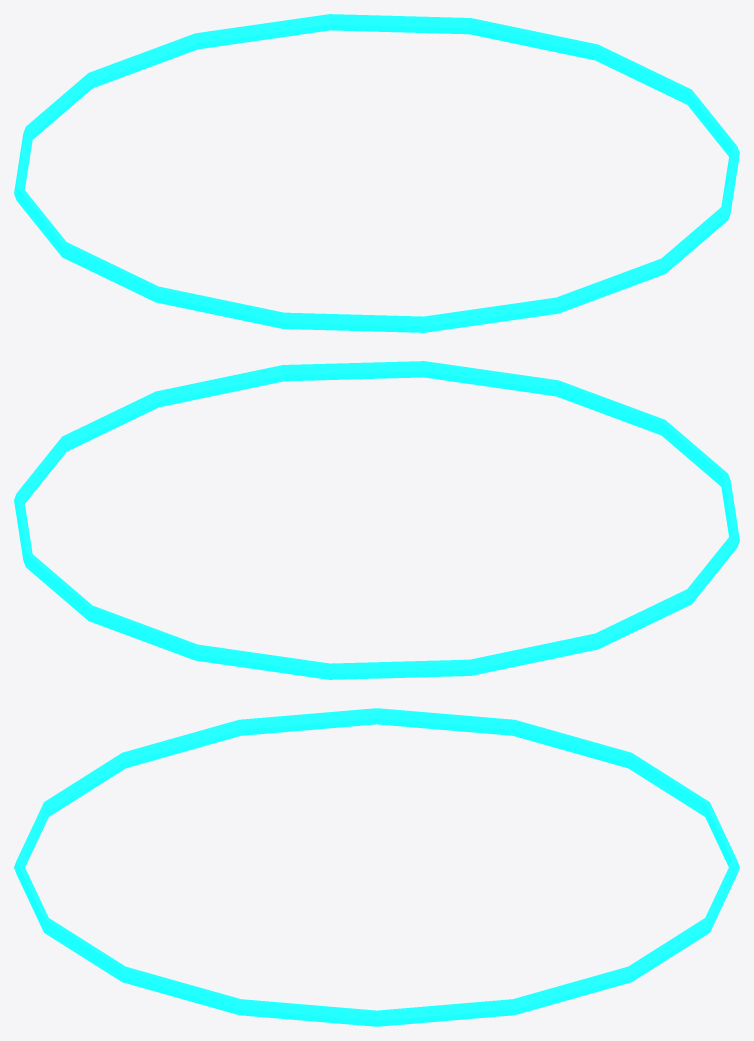
The model's file is Anel.glb.
3 views of the same model, one above another, from view 1: azimuth 30°, elevation 25°; view 2: azimuth 150°, elevation 25°; view 3: azimuth 270°, elevation 25° (orthographic).
Parts seen in each view (by area): view 1: Torus; view 2: Torus; view 3: Torus.
Boxes of the visible parts, x1,y1,x2,y2 form: Torus: (14,14,739,332); Torus: (14,361,739,679); Torus: (14,708,739,1026).
Bounding box in the file's own units: 4.18 × 0.0893 × 4.18.
